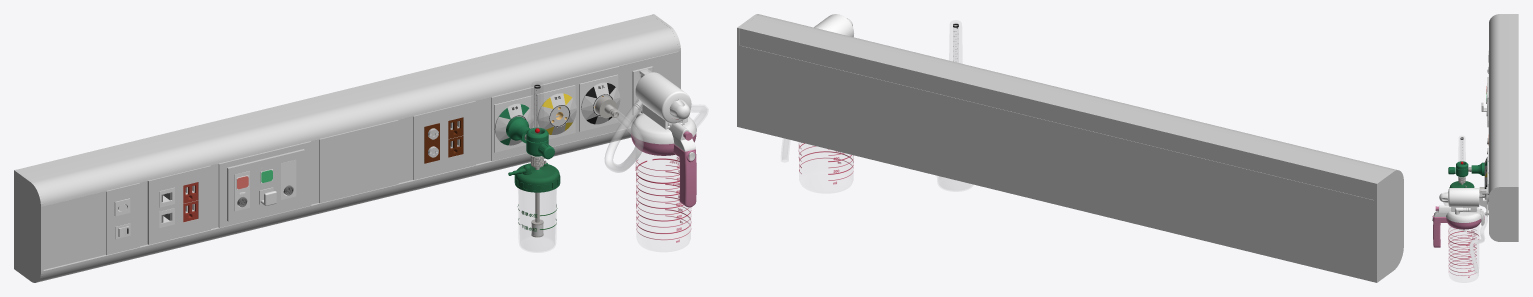
The picture shows the model from 3 angles, left to right: view 1: azimuth 30°, elevation 25°; view 2: azimuth 150°, elevation 25°; view 3: azimuth 270°, elevation 25°; orthographic projection. The views are drawn at different scales.
Visible parts, largest first — view 1: object 104, object 106, object 80, object 118, object 112, object 79, object 120, object 89, object 88, Cube.010_145, object 92, Cylinder.017_123 (+25 smaller); view 2: object 68, object 104, object 106, object 120, Cube.010_145, Cylinder.044_149; view 3: object 104, object 119, Cylinder.044_149, Cube.010_145, Cube.009_144, Cylinder.040_141, BezierCurve.004_156, Cylinder.033_139, Plane.003_146, Cylinder.029_135, Cylinder.019_124, object 89 (+3 smaller).
Part boxes in pixels (x1,y1,x2,y2): object 104: [17, 15, 678, 205]; object 106: [40, 127, 631, 281]; object 80: [319, 120, 398, 203]; object 118: [43, 191, 105, 269]; object 112: [147, 165, 210, 244]; object 79: [413, 101, 475, 179]; object 120: [14, 169, 43, 282]; object 89: [227, 149, 304, 221]; object 88: [218, 141, 311, 227]; Cube.010_145: [635, 72, 691, 129]; object 92: [106, 183, 139, 255]; Cylinder.017_123: [518, 189, 556, 251]; object 68: [739, 45, 1374, 264]; object 104: [740, 14, 1394, 199]; object 106: [739, 110, 1374, 281]; object 120: [1374, 169, 1403, 282]; Cube.010_145: [814, 14, 853, 37]; Cylinder.044_149: [798, 142, 853, 184]; object 104: [1489, 14, 1518, 193]; object 119: [1489, 186, 1518, 241]; Cylinder.044_149: [1448, 227, 1479, 277]; Cube.010_145: [1448, 188, 1479, 211]; Cube.009_144: [1434, 205, 1484, 225]; Cylinder.040_141: [1433, 215, 1484, 247]; BezierCurve.004_156: [1464, 209, 1487, 271]; Cylinder.033_139: [1456, 161, 1468, 177]; Plane.003_146: [1479, 187, 1487, 216]; Cylinder.029_135: [1471, 162, 1484, 175]; Cylinder.019_124: [1449, 181, 1474, 187]; object 89: [1487, 77, 1488, 127].
Bounding box in the file's own units: 8.88 × 2.46 × 1.82.
37 materials, 5 textured.
